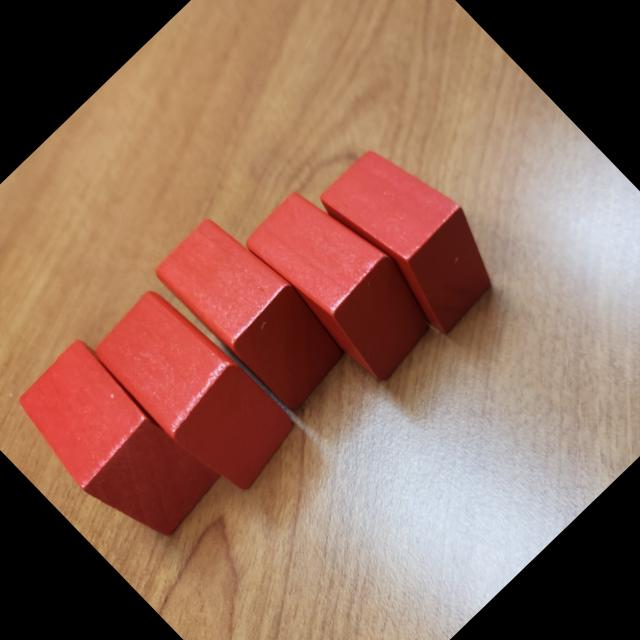red: (5, 332, 228, 558), (85, 280, 308, 504), (238, 172, 451, 386), (150, 205, 359, 416), (311, 128, 518, 338)
